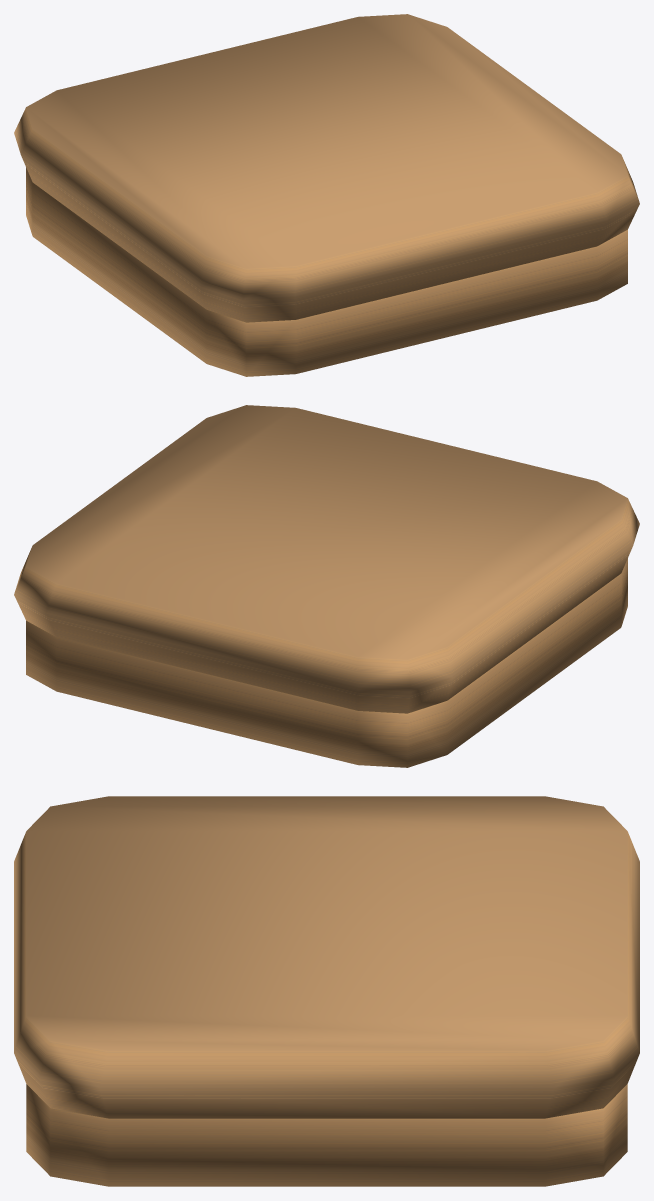
Rendered from block-snow-low-large.glb.
The picture shows the model from 3 angles, top to bottom: view 1: azimuth 30°, elevation 25°; view 2: azimuth 150°, elevation 25°; view 3: azimuth 270°, elevation 25°; orthographic projection. The views are drawn at different scales.
Visible parts, largest first — view 1: block-snow-low-large; view 2: block-snow-low-large; view 3: block-snow-low-large.
Part boxes in pixels (bbox=[...]): block-snow-low-large: bbox=[14, 14, 639, 376]; block-snow-low-large: bbox=[14, 405, 639, 767]; block-snow-low-large: bbox=[14, 796, 639, 1186].
Bounding box in the file's own units: 2.08 × 0.5 × 2.08.
Materials: 1 (1 with a texture image).
